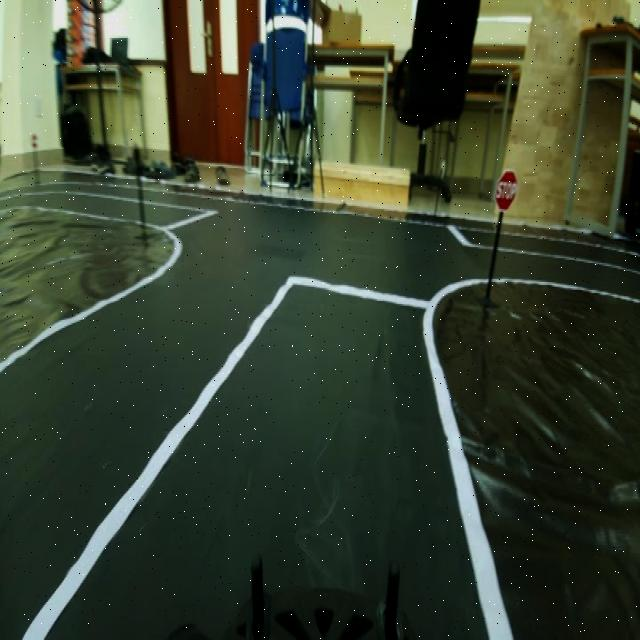stop: (491, 162, 520, 212)
